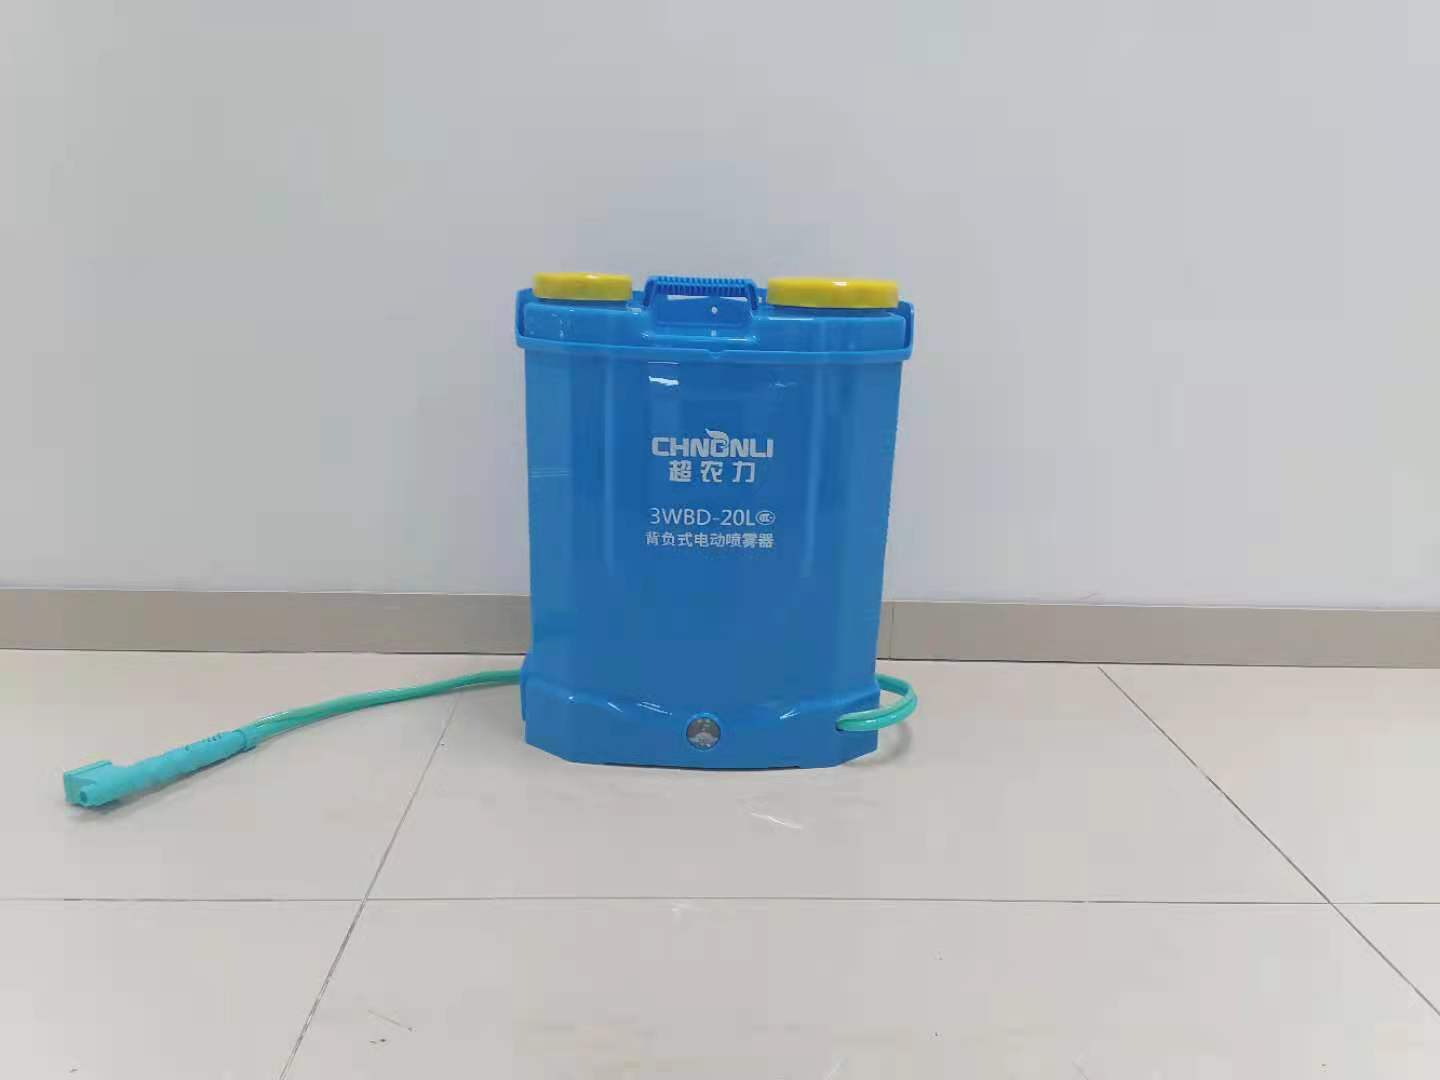berrl: (491, 267, 929, 777)
